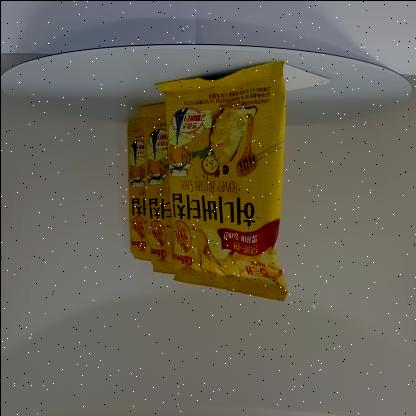Others: (118, 53, 298, 310)
